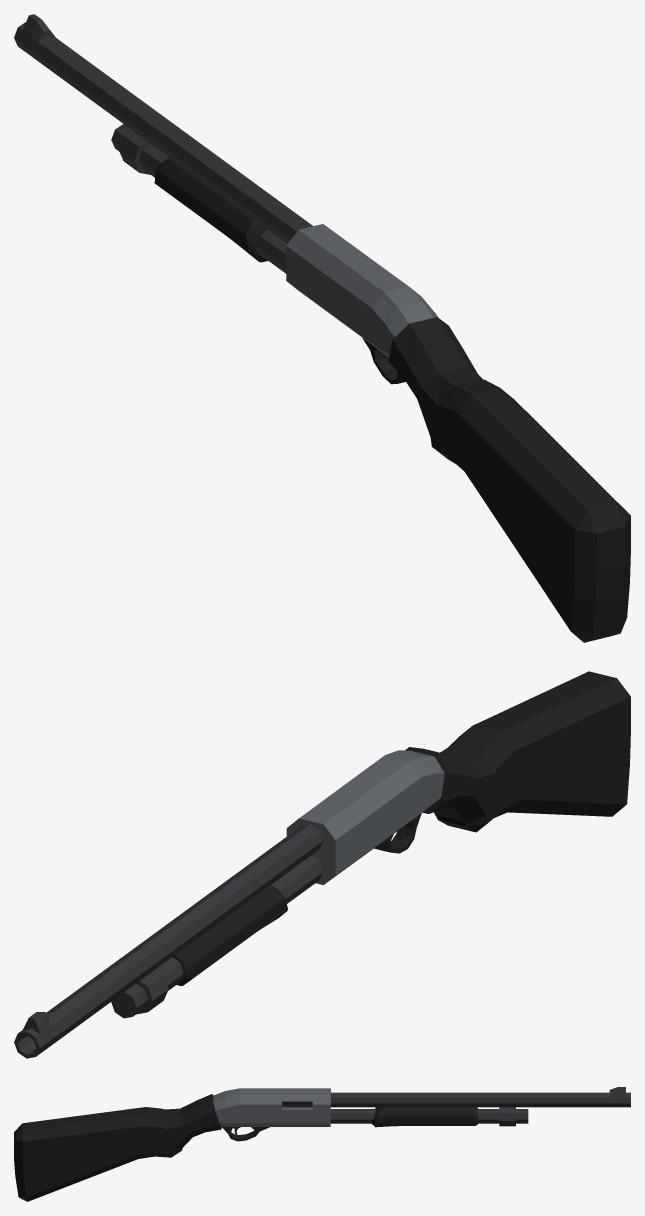
Rendered from Shotgun.glb.
3 views of the same model, one above another, from view 1: azimuth 30°, elevation 25°; view 2: azimuth 150°, elevation 25°; view 3: azimuth 270°, elevation 25° (orthographic). The views are drawn at different scales.
Size of the model in its own units: 0.0557 by 0.1979 by 1.
1 material, 1 textured.
